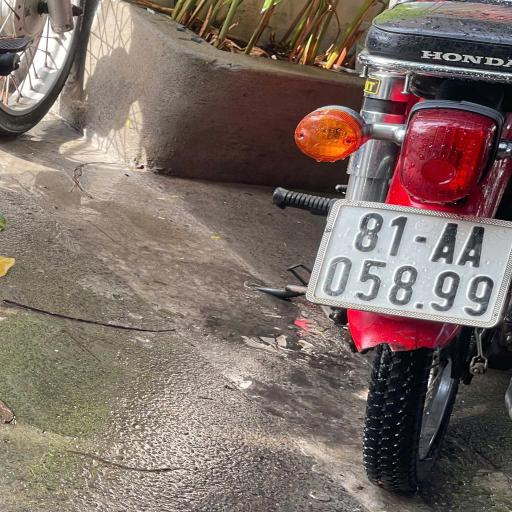0: (318, 252, 353, 307)
1: (389, 211, 407, 267)
5: (356, 256, 386, 307)
8: (388, 260, 424, 317), (353, 207, 387, 260)
9: (457, 270, 498, 322), (426, 265, 462, 318)
A: (464, 218, 493, 272), (436, 218, 466, 270)
